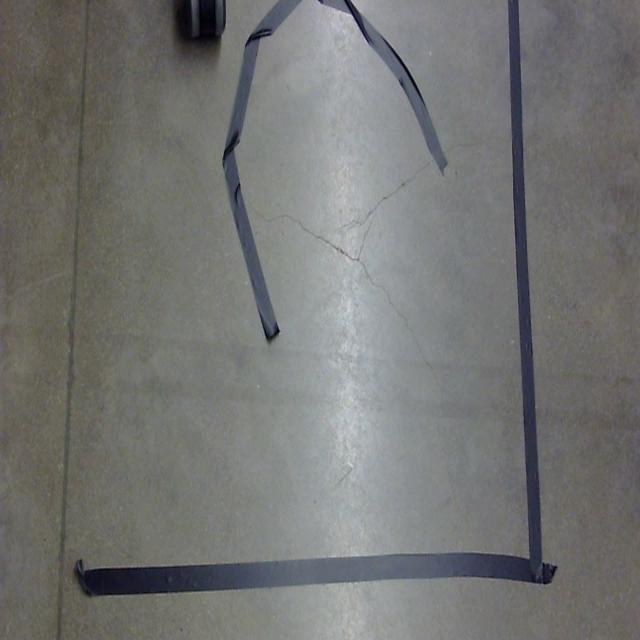tape: (72, 0, 568, 608), (212, 0, 471, 358)
